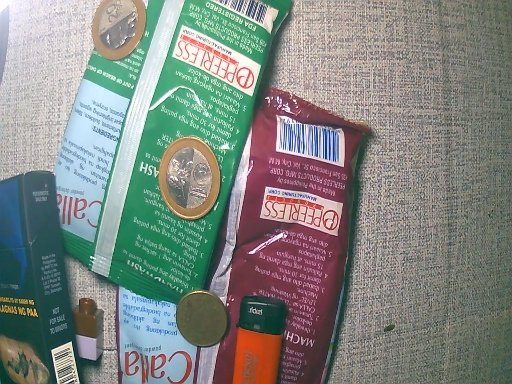cardboard: (1, 172, 77, 384)
metal: (156, 134, 221, 218), (90, 1, 150, 64), (174, 282, 230, 347)
plastic: (29, 1, 306, 281), (119, 90, 375, 384)
trash: (230, 297, 286, 384), (70, 297, 109, 362)
